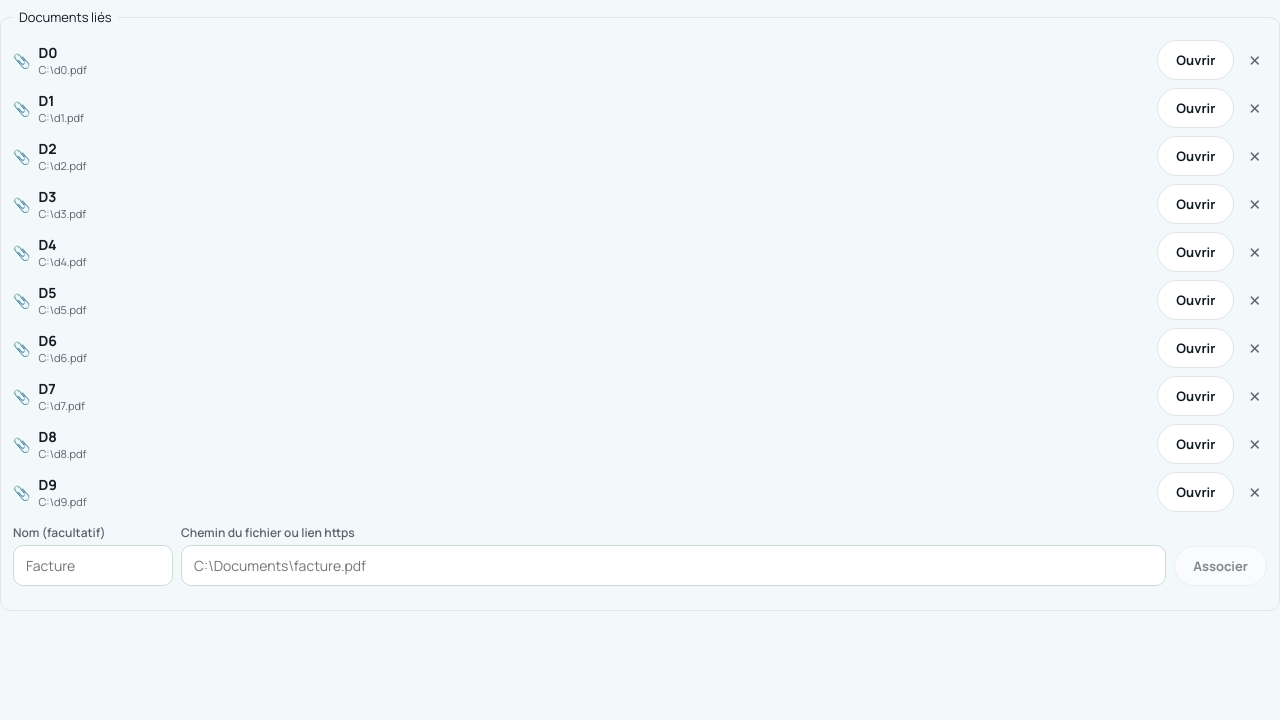
Scenario: champ « Documents liés » › plafonne à dix documents
Type "C:\\onze.pdf" into the field labelled "Chemin du fichier ou lien https".
click(674, 566); type("C:\\onze.pdf")  # box [181,545,1166,586]
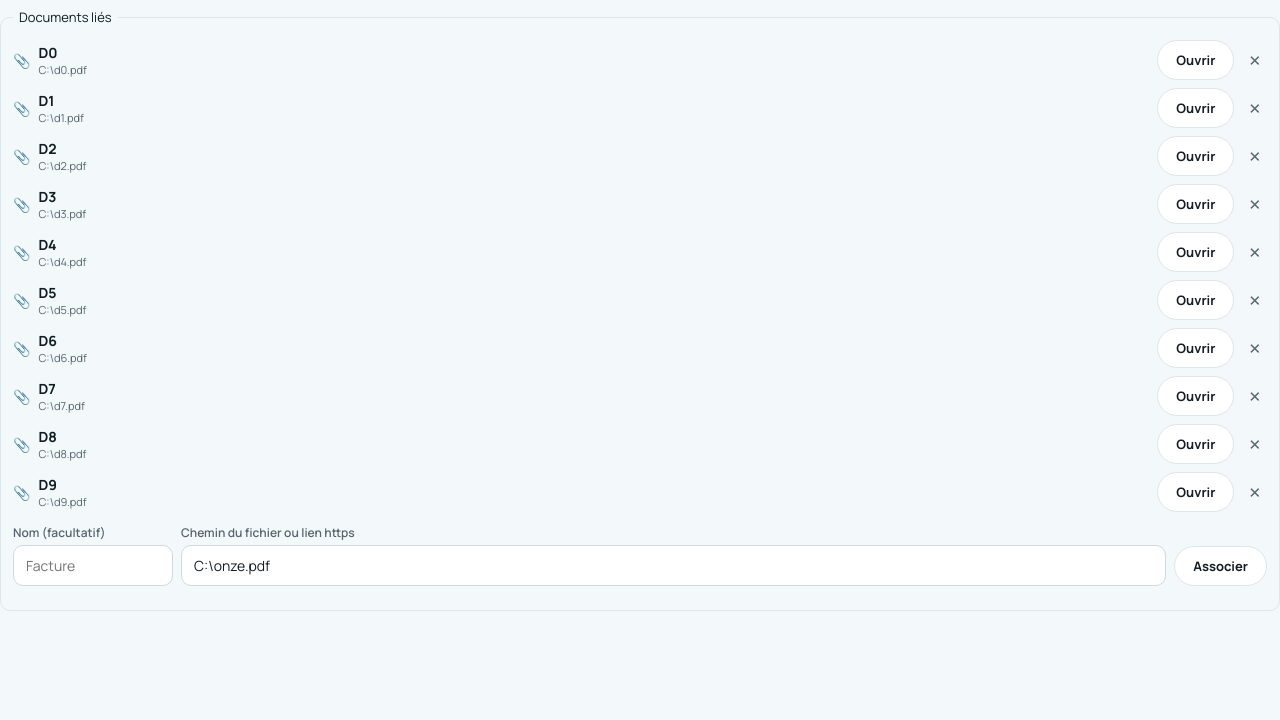
Click the button "Associer".
click(1221, 566)  # box [1174,546,1267,586]
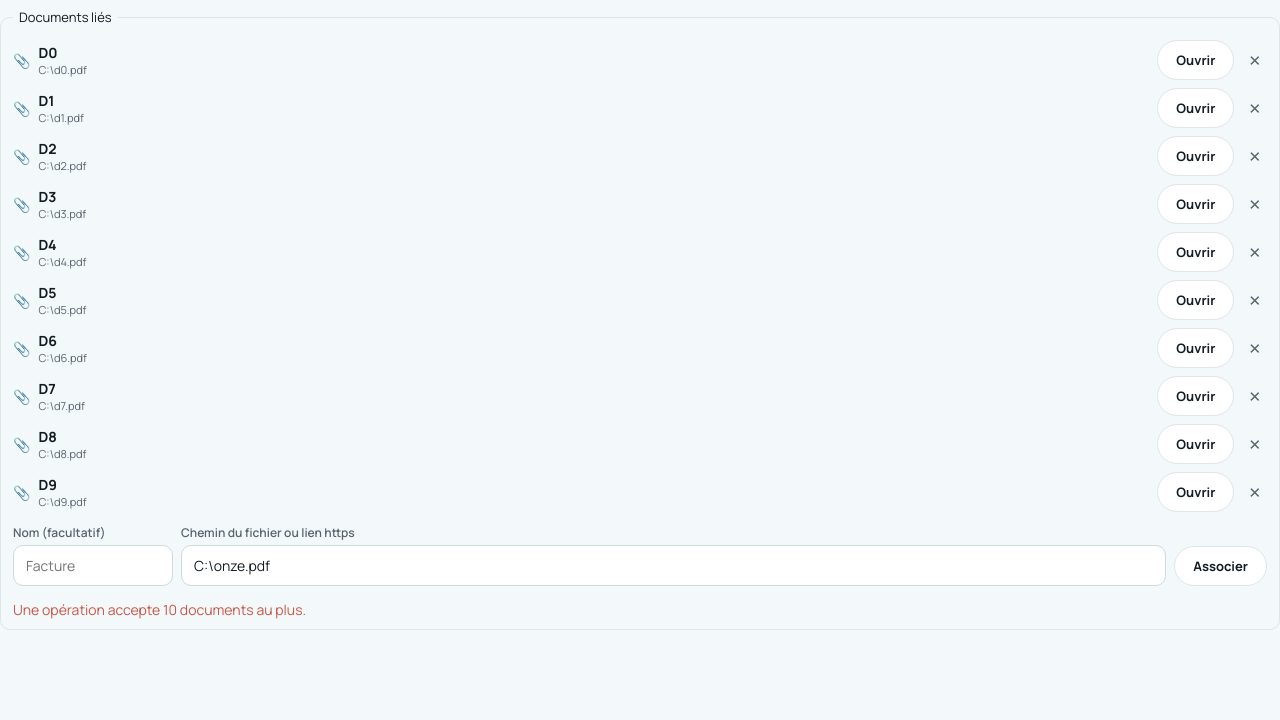
expect the message shows "10 documents au plus": met, box [13,600,306,619]
